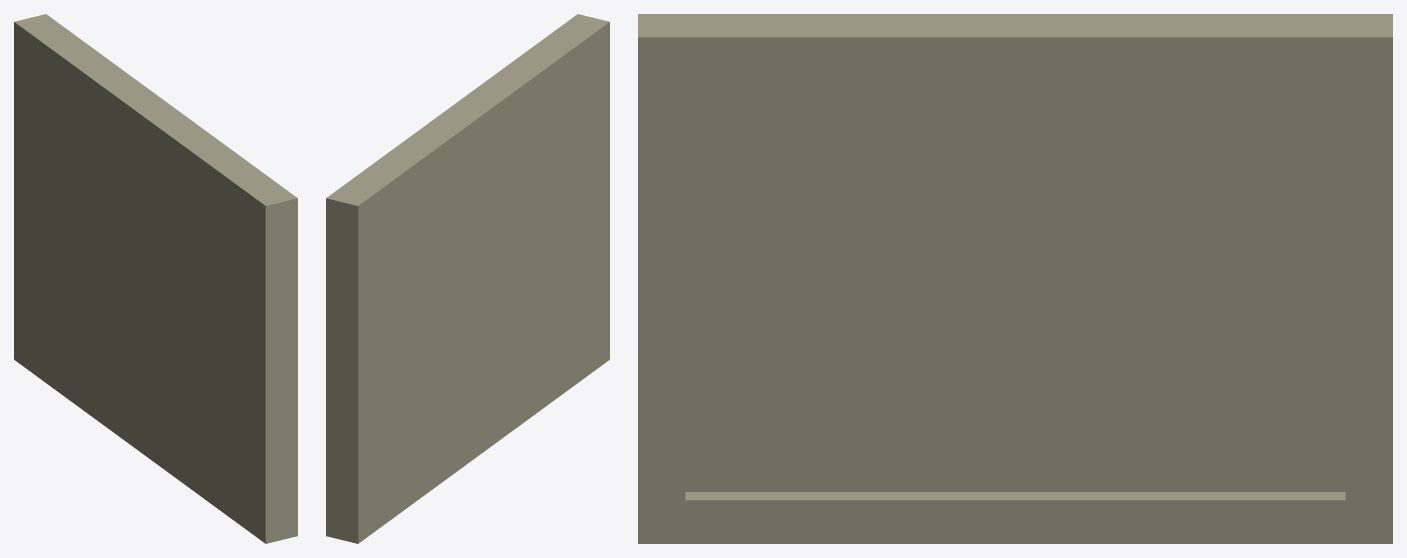
File: portrait_frame_prototype.fbx
3 views of the same model, side by side, from view 1: azimuth 30°, elevation 25°; view 2: azimuth 150°, elevation 25°; view 3: azimuth 270°, elevation 25° (orthographic). The views are drawn at different scales.
Visible parts, largest first — view 1: frame1; view 2: frame1; view 3: frame1.
Boxes of the visible parts, left/top/right/bottom form: frame1: left=14, top=14, right=297, bottom=543; frame1: left=326, top=14, right=609, bottom=543; frame1: left=638, top=14, right=1392, bottom=543.
Bounding box in the file's own units: 0.0993 × 1 × 1.35.
